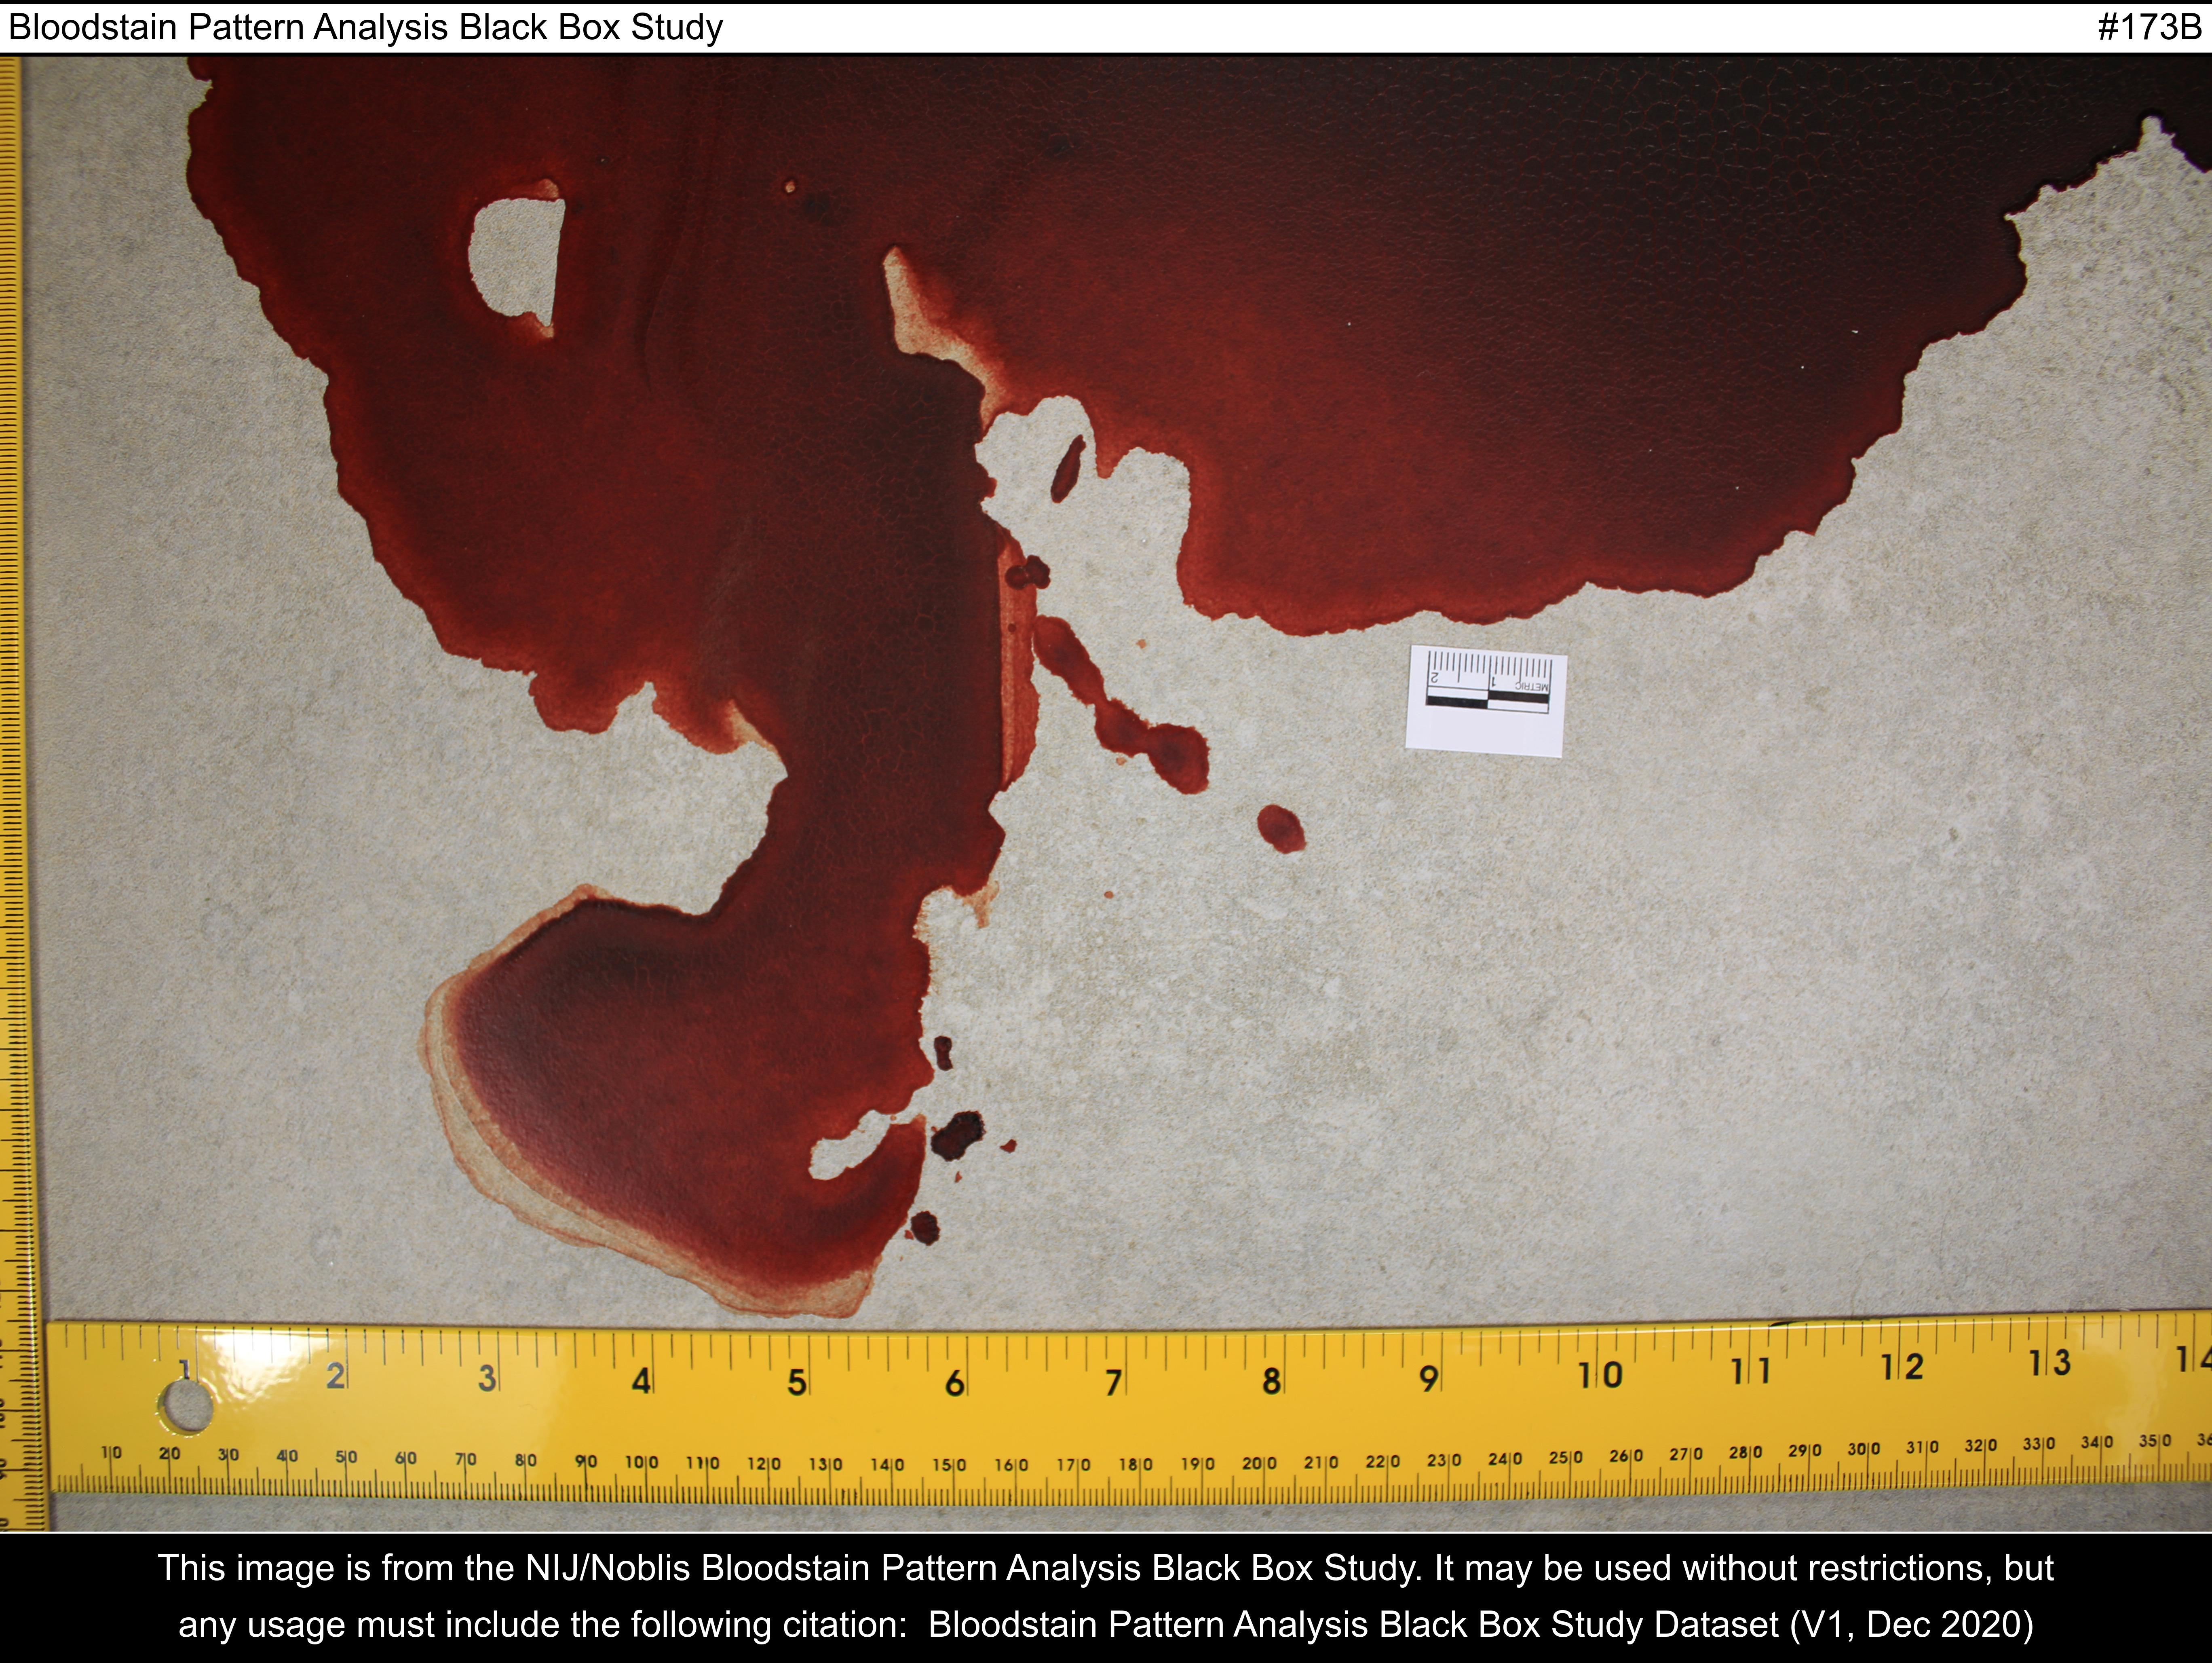Passive: (189, 56, 2207, 1328)
